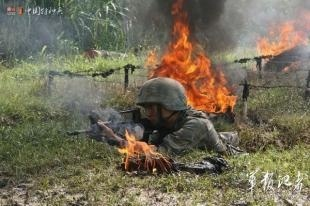fire: (143, 2, 239, 111), (253, 8, 310, 57), (110, 125, 163, 171)
